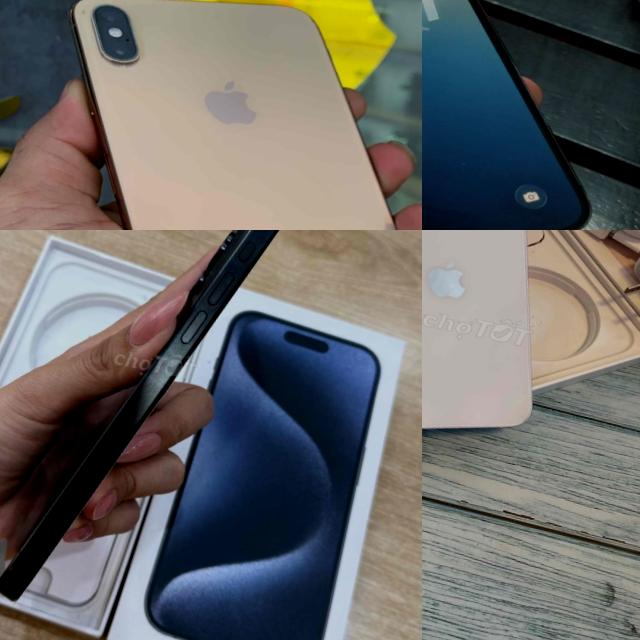gen_12_13: (422, 0, 640, 230), (422, 230, 589, 461)
gen_15: (0, 230, 320, 639)
gen_x_xs: (70, 0, 397, 230)
scratch: (140, 344, 188, 398), (68, 0, 99, 30)
